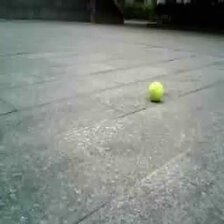tennis: (149, 81, 163, 98)
